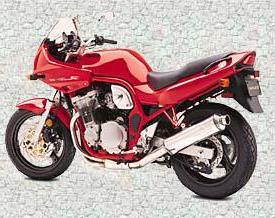motorcycle: (1, 19, 265, 207)
